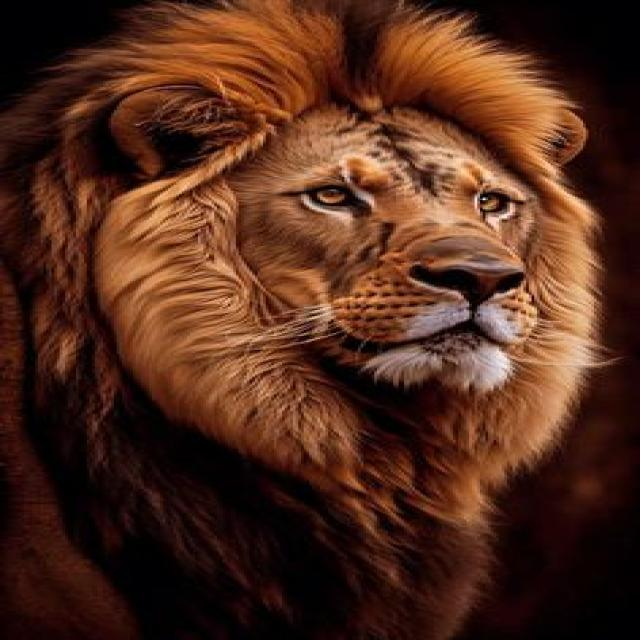lions: (10, 1, 640, 638)
